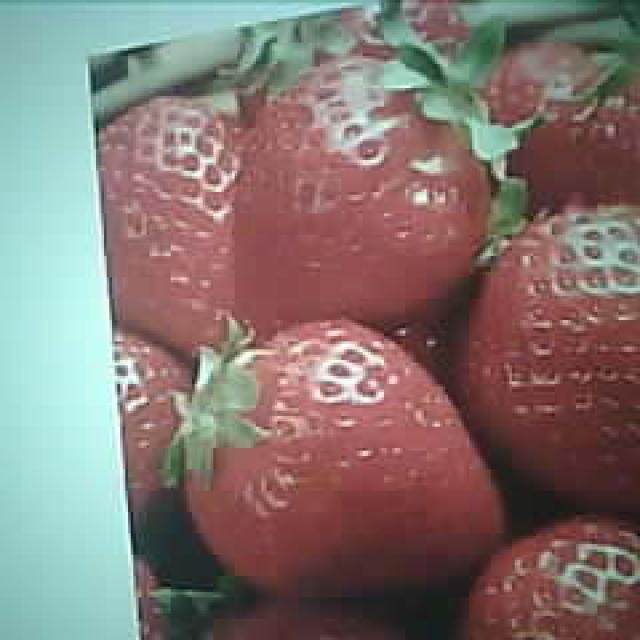strawberry: (184, 320, 504, 584)
